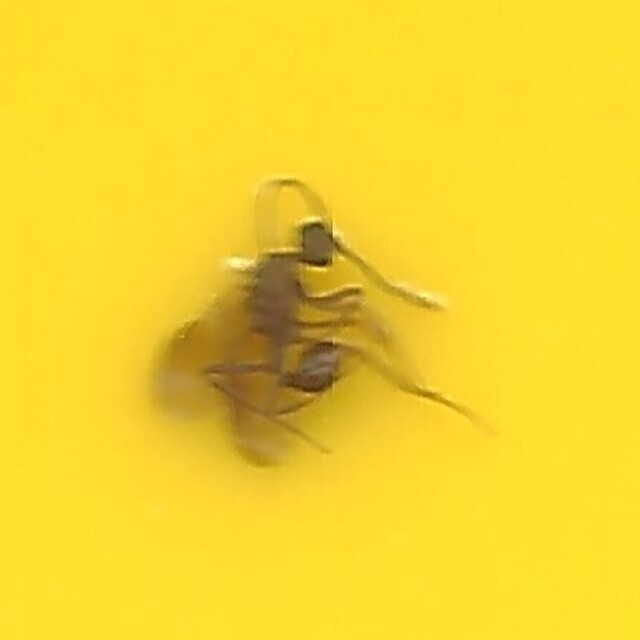Hymenoptera: (148, 176, 492, 464)
